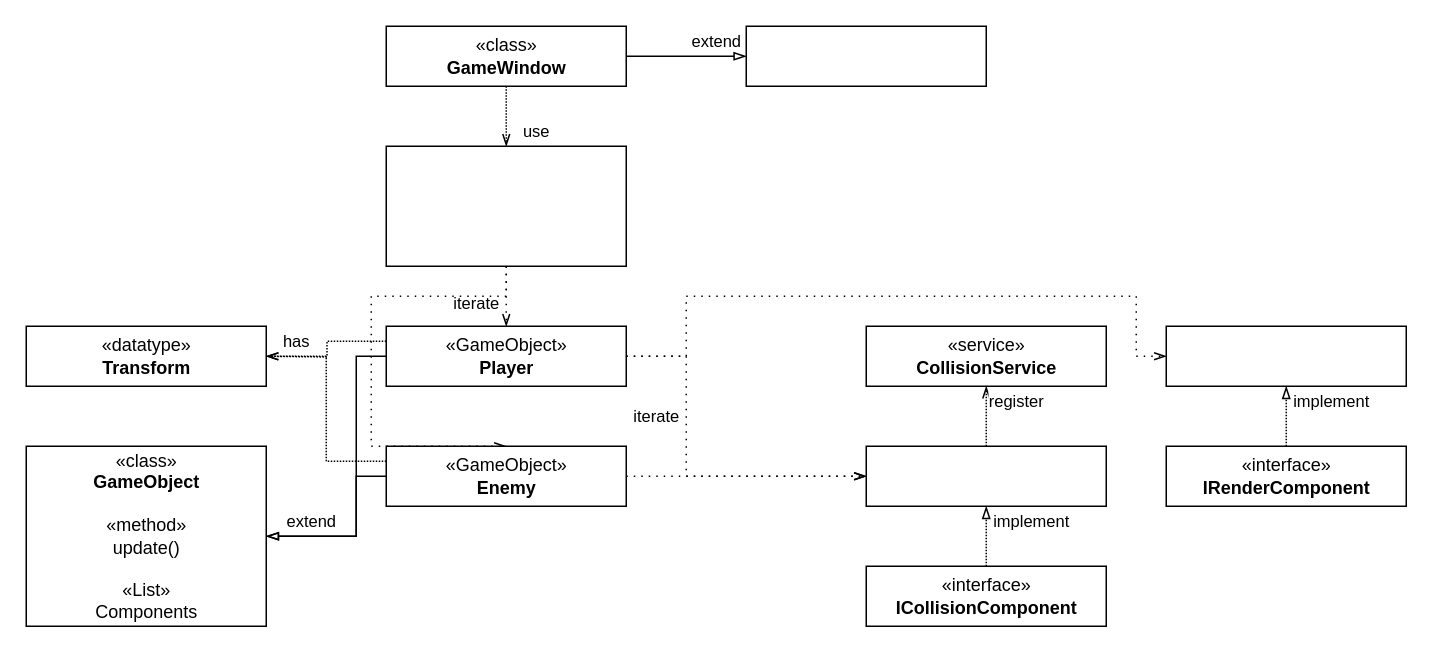
The diagram is 1433 pixels wide and 653 high, and some of its shapes have lost their labels. The centre of each missing label's shape, as x and y in pixels:
"«class» CollisionComponent" goes at point 985,475.
"«class» Game «List» GameObjects" goes at point 505,205.
"«class» RenderComponent" goes at point 1285,355.
"«gameWindow» OpenGL.GameWindow" goes at point 865,55.
